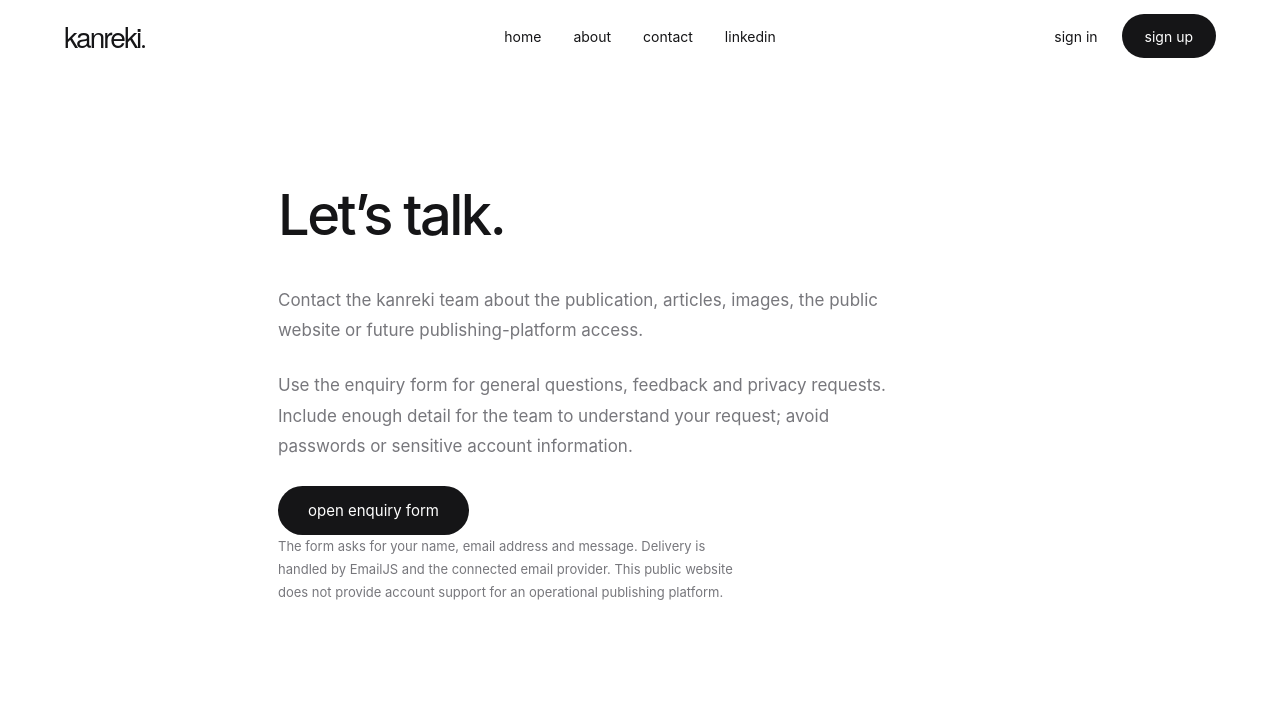
Test: public routes and navigation › opens the same enquiry dialog from the contact route
Click the link "open enquiry form" at [374, 510], box [278,486,469,535]
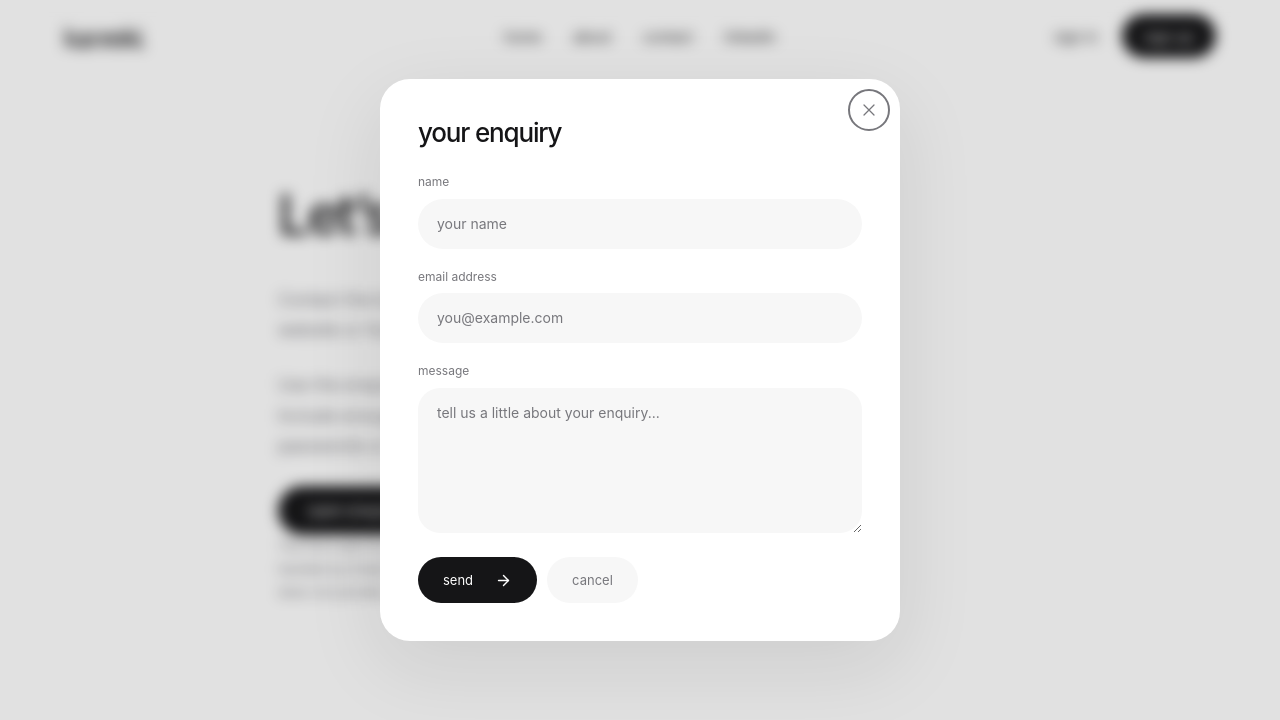
Expected: the dialog "your enquiry" is shown, [380,79,900,641]
